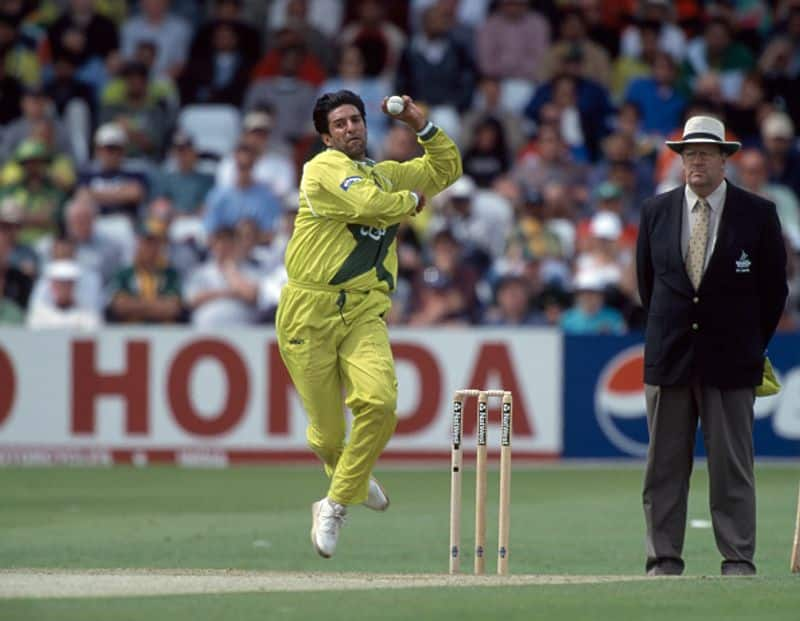NoMask: (329, 113, 366, 158), (684, 148, 720, 191)
